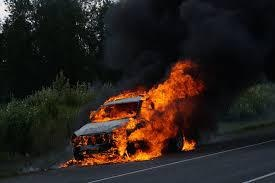fire: (72, 55, 207, 165)
